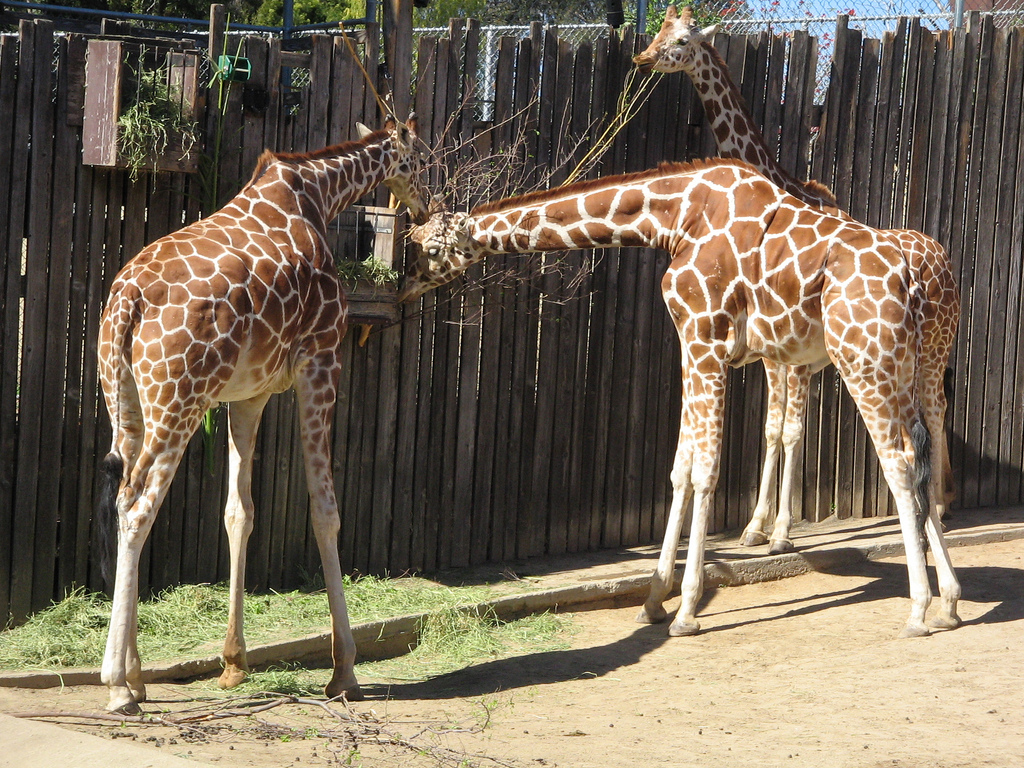giraffe: (381, 168, 1008, 659), (53, 95, 447, 703)
